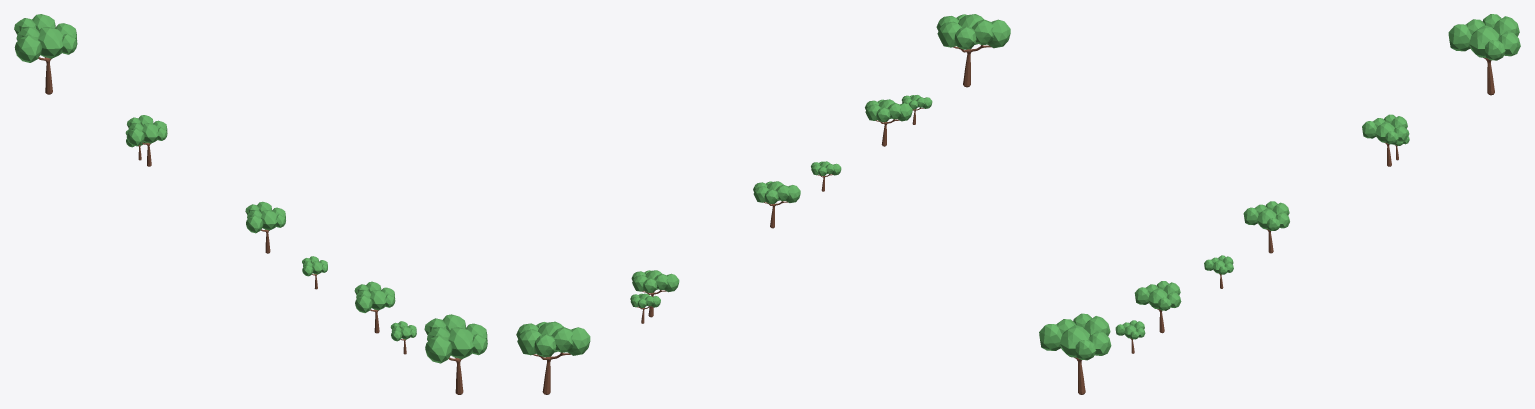
3 views of the same model, side by side, from view 1: azimuth 30°, elevation 25°; view 2: azimuth 150°, elevation 25°; view 3: azimuth 330°, elevation 25° (orthographic). The views are drawn at different scales.
Parts seen in each view (by area): view 1: Tree.004, Tree, Tree.001, Tree.002, Tree.003, Tree.006, Tree.005; view 2: Tree, Tree.004, Tree.002, Tree.001, Tree.003, Tree.007, Tree.005; view 3: Tree.004, Tree, Tree.002, Tree.001, Tree.003, Tree.006, Tree.005.
Boxes of the visible parts, x1,y1,x2,y2 form: Tree.004: (14, 14, 77, 94); Tree: (424, 314, 487, 394); Tree.001: (354, 281, 395, 333); Tree.002: (245, 201, 285, 253); Tree.003: (127, 115, 167, 166); Tree.006: (390, 321, 416, 354); Tree.005: (302, 256, 327, 289); Tree: (936, 14, 1010, 87); Tree.004: (516, 321, 590, 394); Tree.002: (753, 181, 800, 228); Tree.001: (865, 99, 912, 146); Tree.003: (631, 270, 679, 317); Tree.007: (630, 293, 660, 323); Tree.005: (811, 161, 841, 191); Tree.004: (1448, 14, 1520, 95); Tree: (1039, 313, 1111, 394); Tree.002: (1243, 201, 1289, 253); Tree.001: (1134, 281, 1181, 333); Tree.003: (1362, 114, 1408, 166); Tree.006: (1115, 320, 1145, 353); Tree.005: (1204, 255, 1233, 288).
Bounding box in the file's own units: 29.97 × 31.58 × 361.
